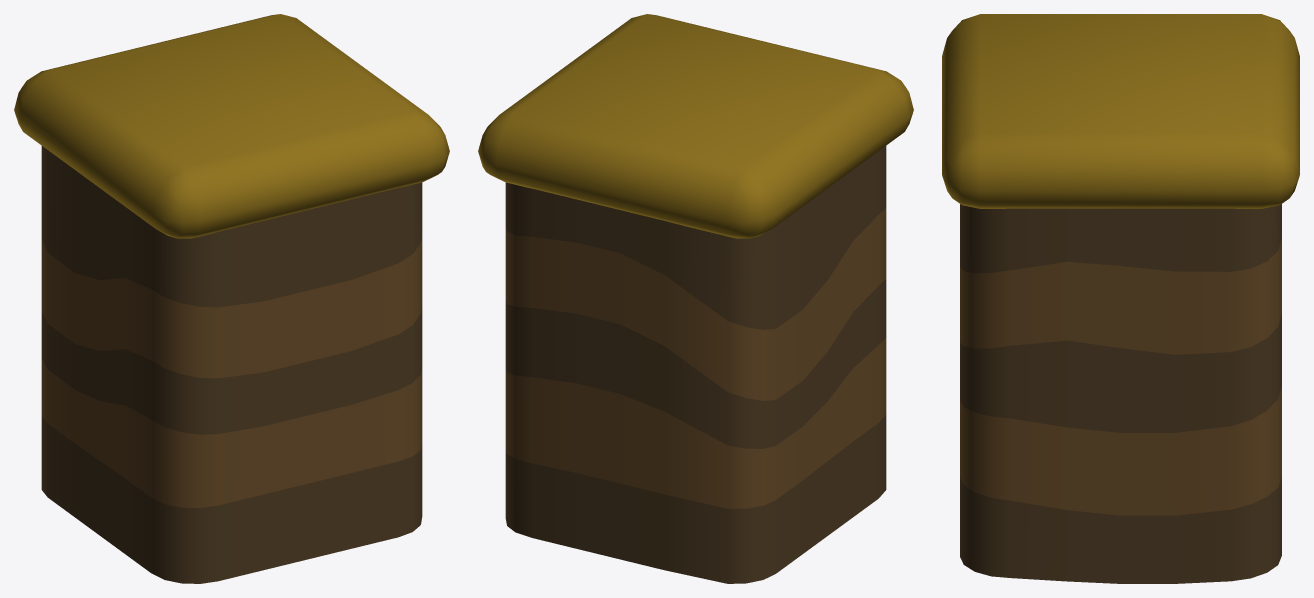
File: Plateforme_Carré_m.fbx
3 views of the same model, side by side, from view 1: azimuth 30°, elevation 25°; view 2: azimuth 150°, elevation 25°; view 3: azimuth 270°, elevation 25° (orthographic). The views are drawn at different scales.
Parts seen in each view (by area): view 1: Cube.009; view 2: Cube.009; view 3: Cube.009.
Boxes of the visible parts, box(x1,y1,x2,y2) form: Cube.009: box(14, 14, 449, 583); Cube.009: box(478, 14, 913, 583); Cube.009: box(942, 14, 1299, 583).
Size of the model in its own units: 499 by 681 by 499.
